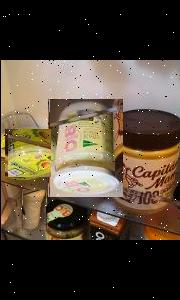Guacamole: (4, 130, 50, 178)
Yogur: (48, 99, 122, 197), (85, 208, 131, 240), (22, 190, 46, 230)
